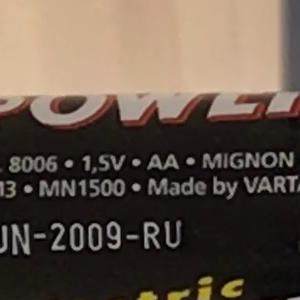1,5V: (73, 146, 135, 180)
